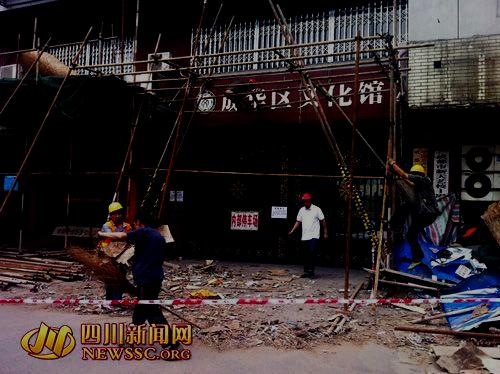no_helmet: (132, 210, 155, 233)
